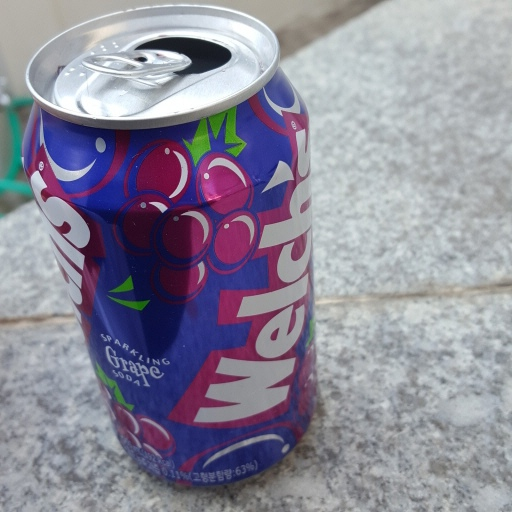Metal_0: (20, 4, 324, 488)
